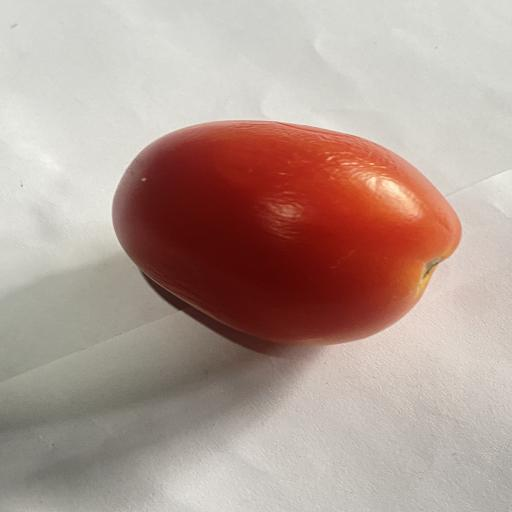spoiled: (113, 120, 461, 345)
